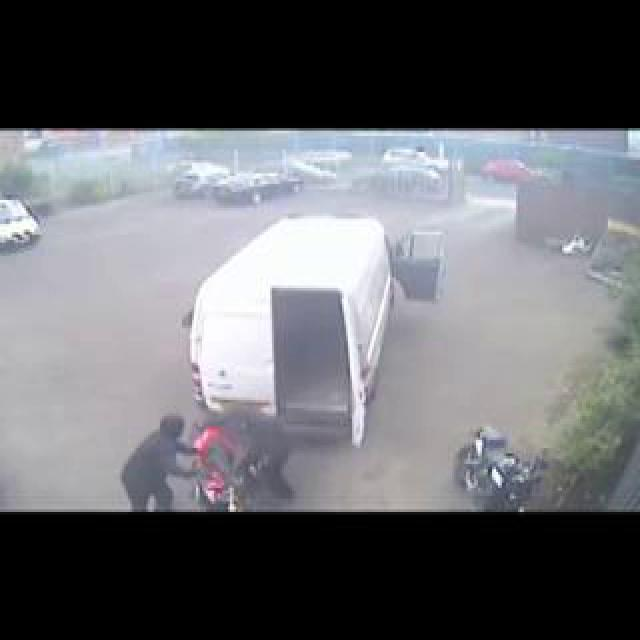stealing: (124, 167, 339, 561)
